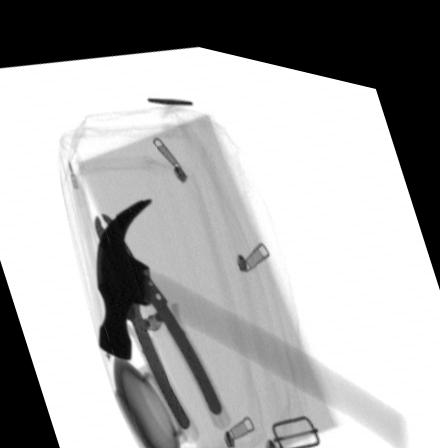Hammer: (93, 190, 409, 433)
Pliers: (93, 205, 230, 431)
